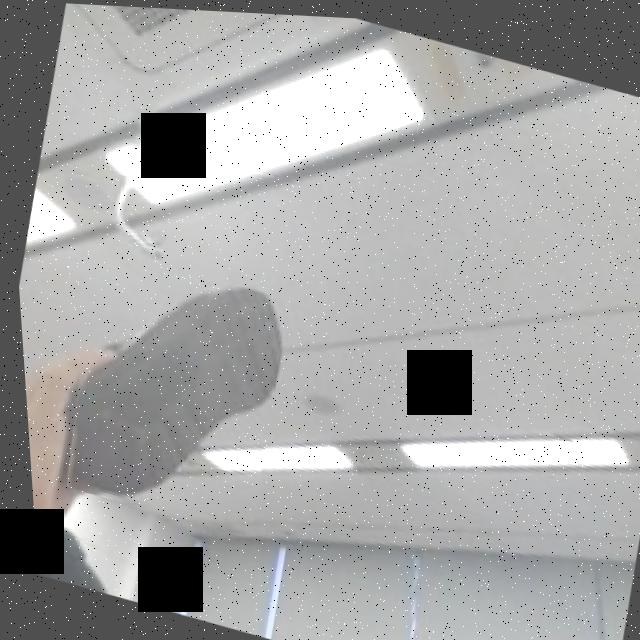shoe: (35, 242, 298, 538)
